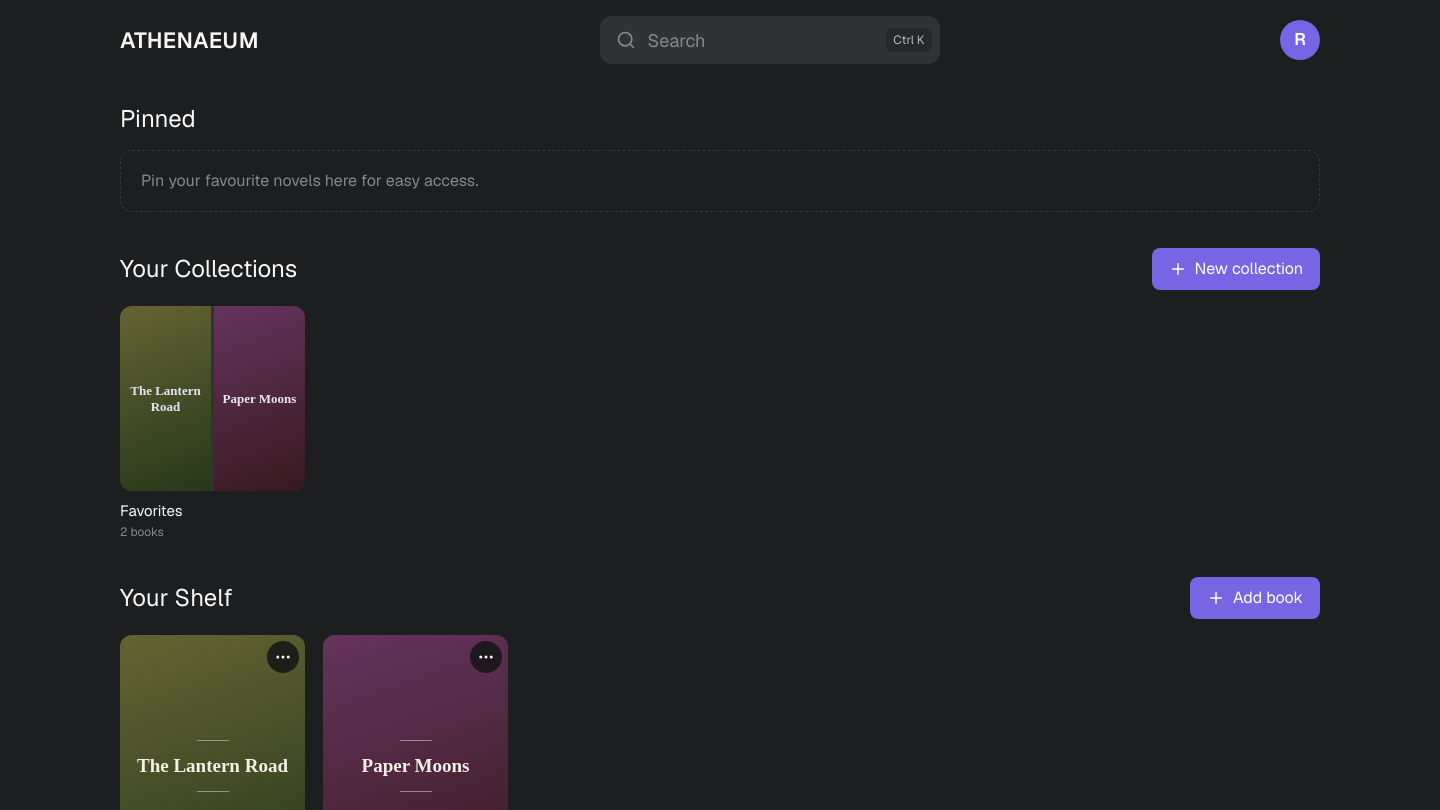
Test: deleting a book › deletes the book after you confirm, and takes it off the shelf and out of its collections
The image size is (1440, 810).
Click the button named "Options for The Lantern Road" at (283, 657), box top-left (267, 641), bottom-right (299, 673)
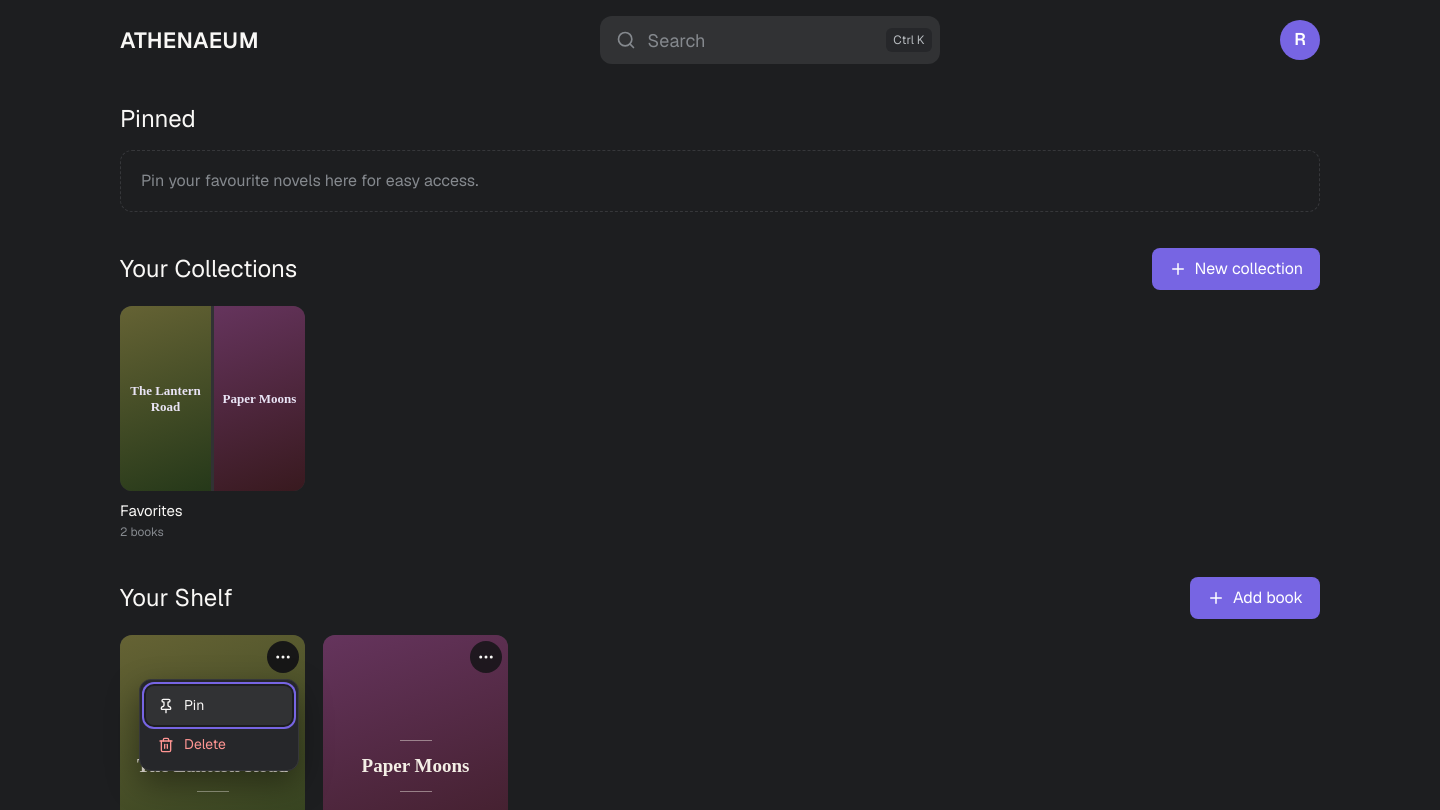
Click the menu item "Delete" at (219, 745), box top-left (146, 725), bottom-right (292, 764)
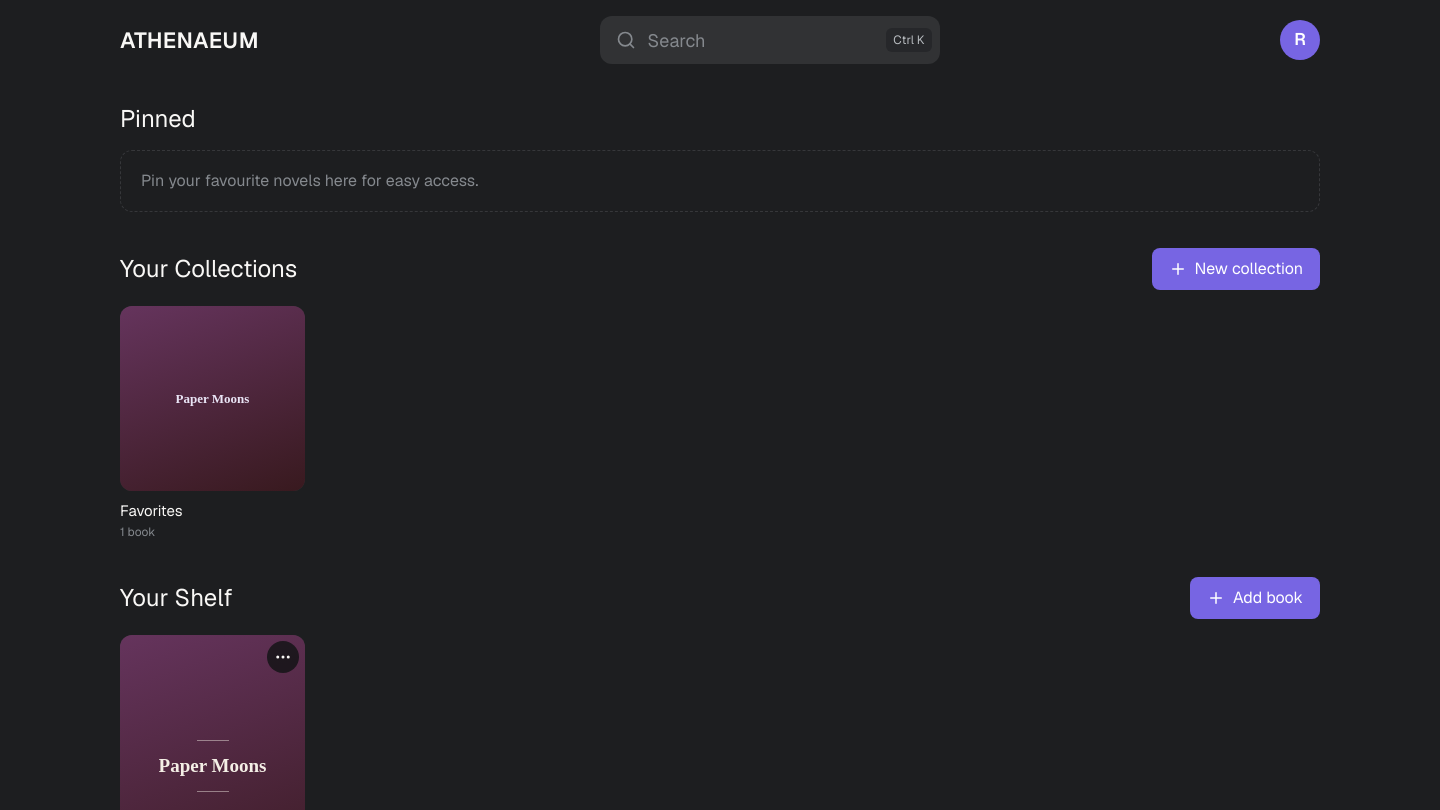
Check: the text "The Lantern Road" is gone
Check: the text "1 book" is shown, box top-left (120, 524), bottom-right (155, 540)
